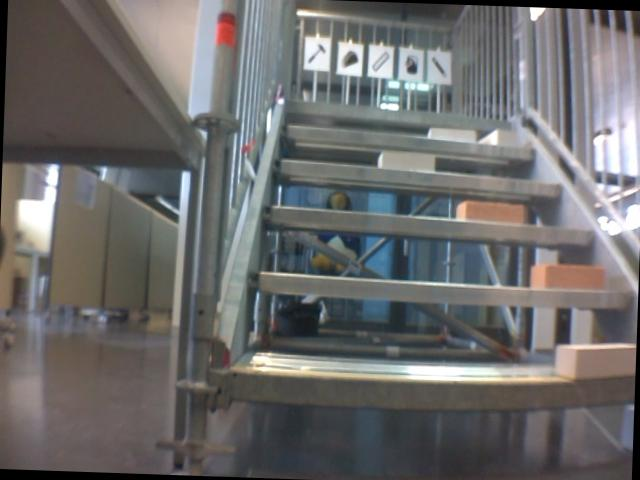brick: (555, 340, 636, 381), (531, 262, 605, 289), (457, 199, 524, 223), (376, 150, 434, 171), (479, 128, 517, 145), (428, 127, 474, 141)
bucket: (401, 50, 422, 78)
edge: (227, 364, 635, 415), (248, 272, 631, 308), (261, 204, 599, 244), (272, 160, 562, 196), (280, 124, 535, 158), (282, 100, 512, 129)
hammer: (306, 40, 329, 67)
pencil: (428, 54, 449, 81)
ruler: (368, 47, 391, 74)
steps: (222, 95, 640, 429)
taco: (340, 50, 358, 70)
